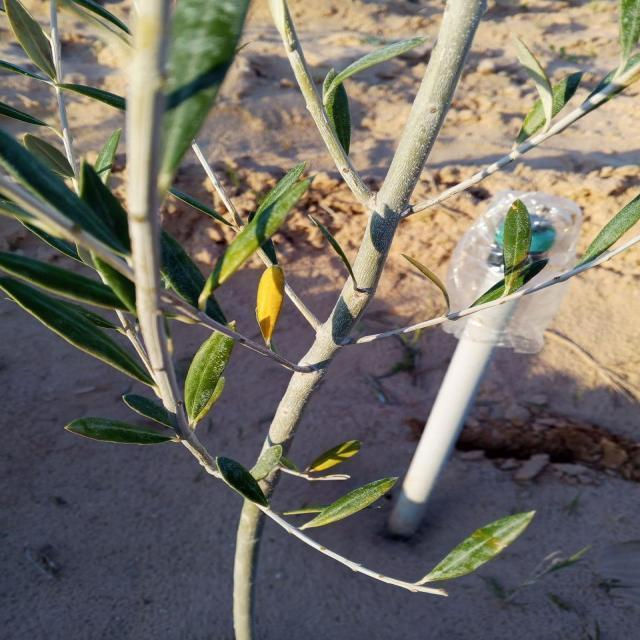OlivePeacockSpot: (416, 511, 535, 586), (256, 266, 283, 347)
